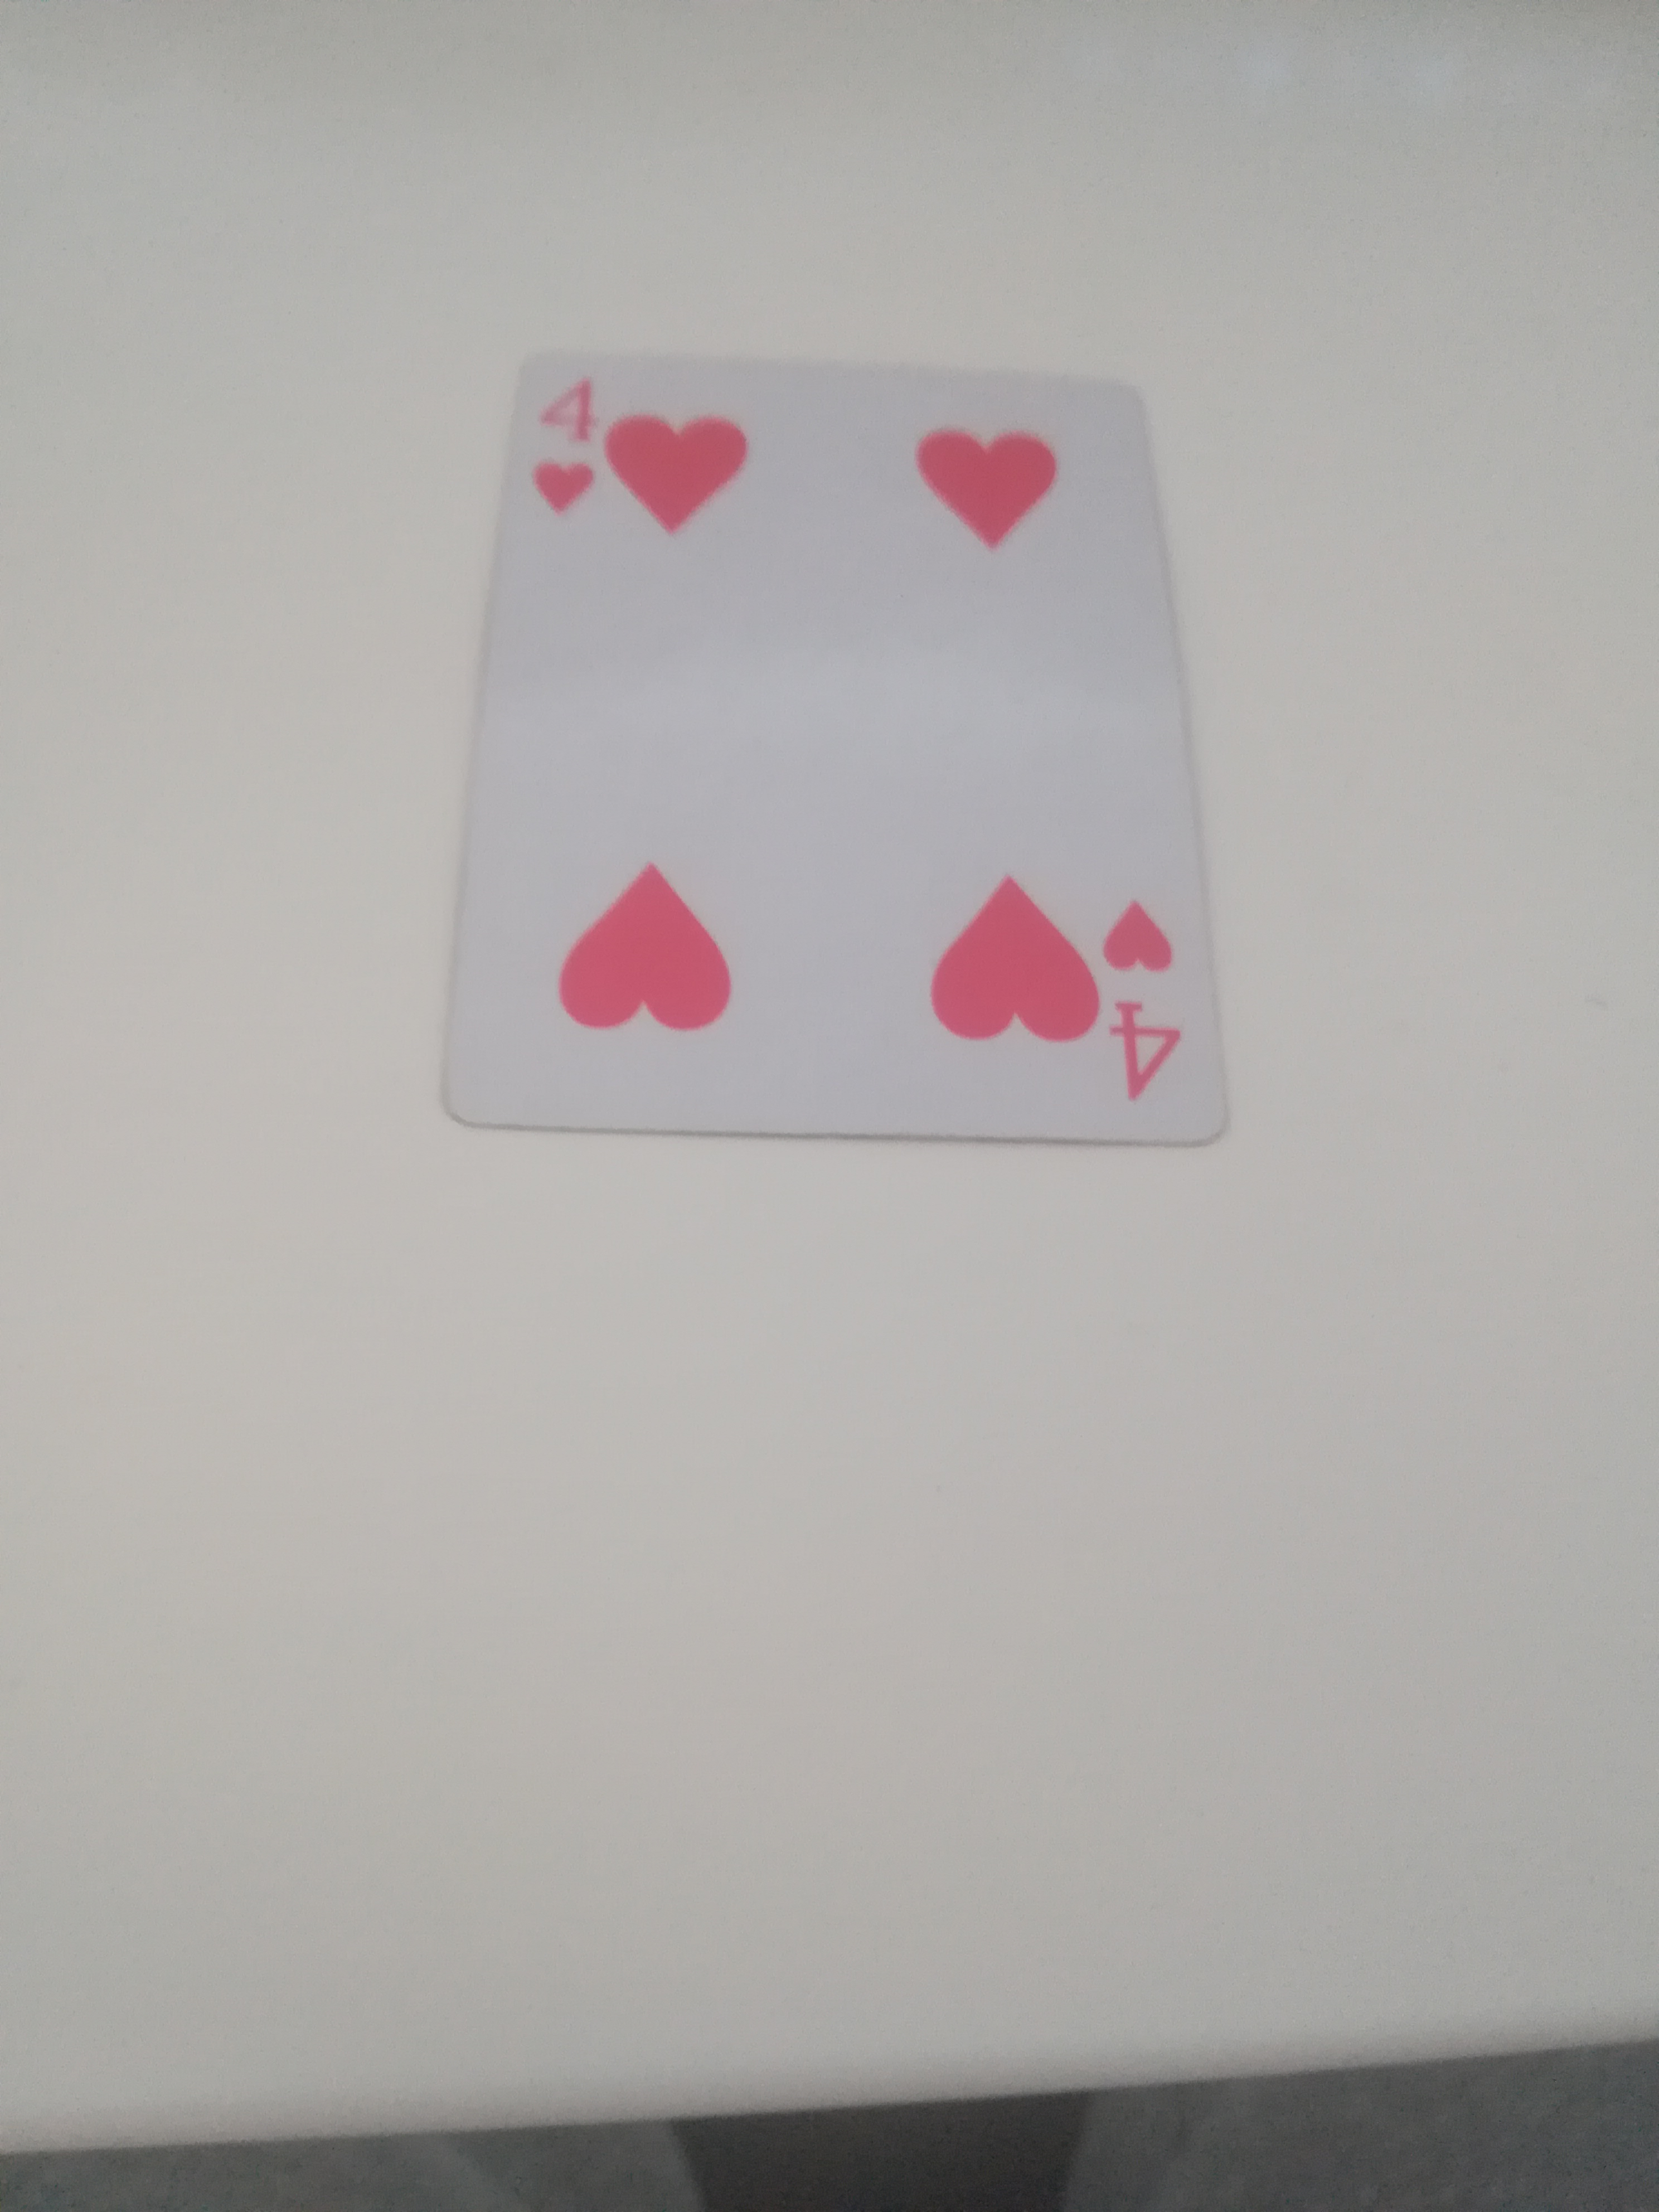4H: (430, 352, 1248, 1155)
